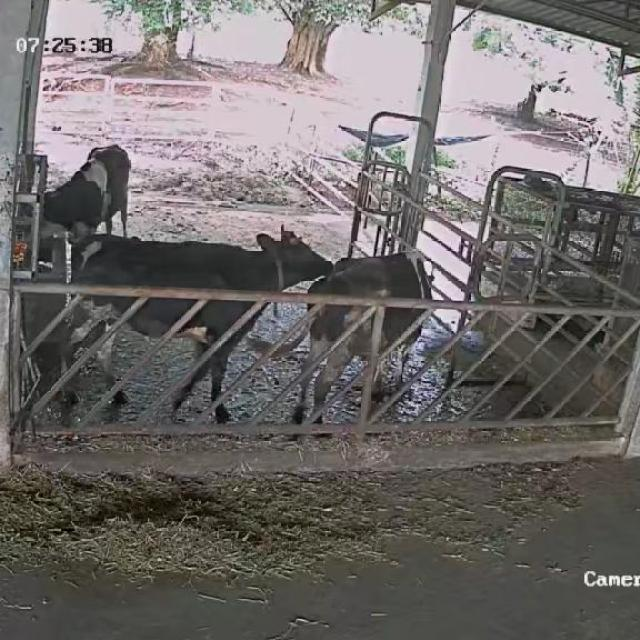drinking: (5, 140, 136, 257)
standing: (52, 226, 342, 417), (296, 248, 436, 430)
